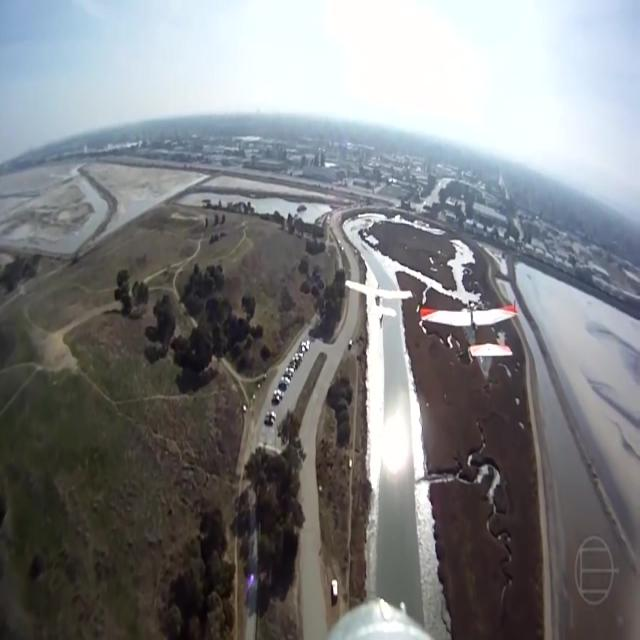iha: (452, 296, 485, 353), (379, 278, 379, 321)
